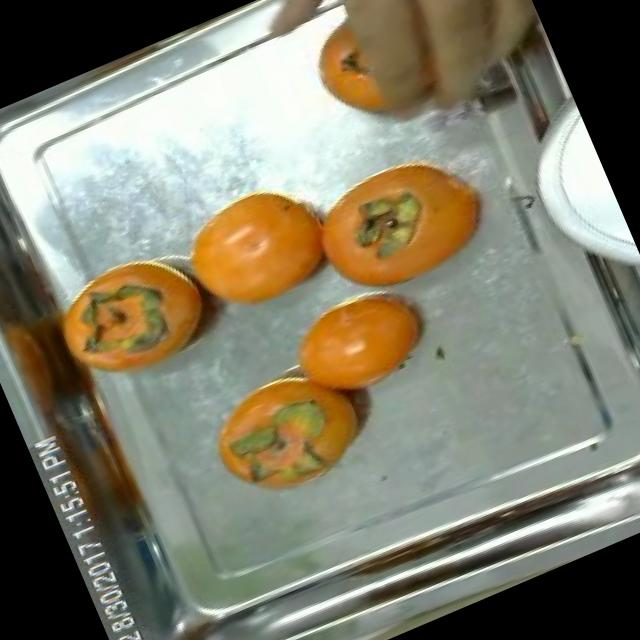Fruit: (282, 117, 526, 326), (154, 152, 362, 340), (40, 227, 235, 403), (268, 267, 458, 423), (191, 356, 365, 518)
